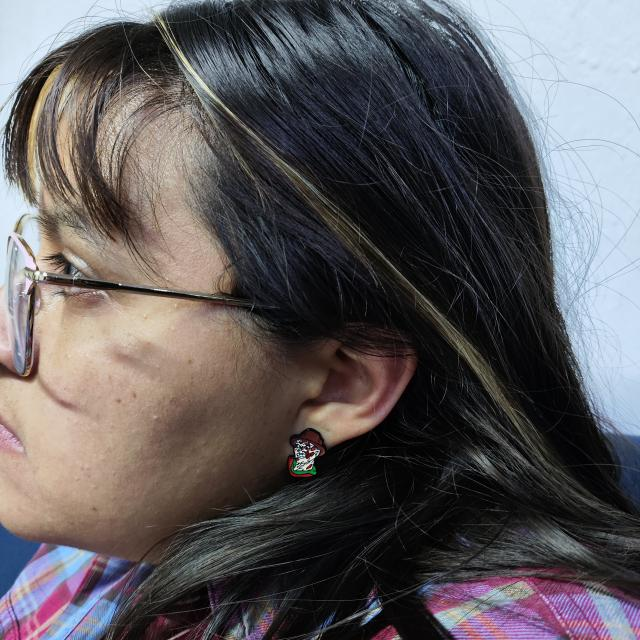ear: (291, 340, 416, 449)
